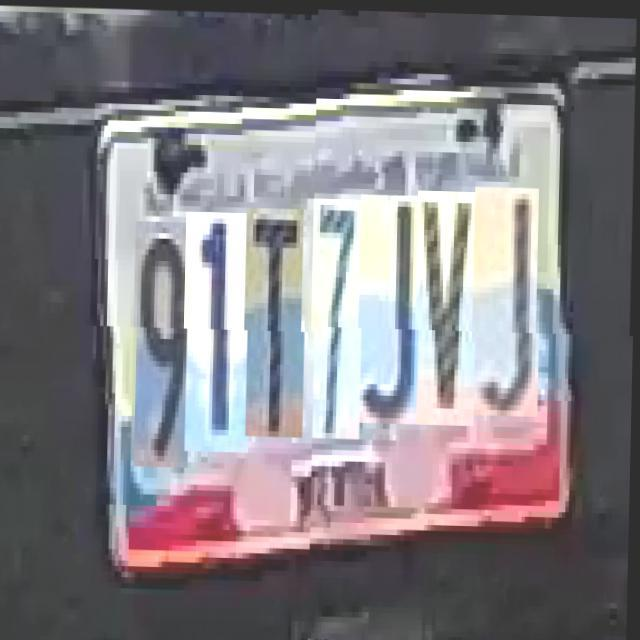1: (187, 210, 254, 452)
7: (314, 202, 365, 443)
9: (136, 220, 194, 467)
J: (476, 190, 543, 418), (362, 198, 428, 428)
T: (247, 207, 308, 436)
V: (418, 194, 479, 428)
